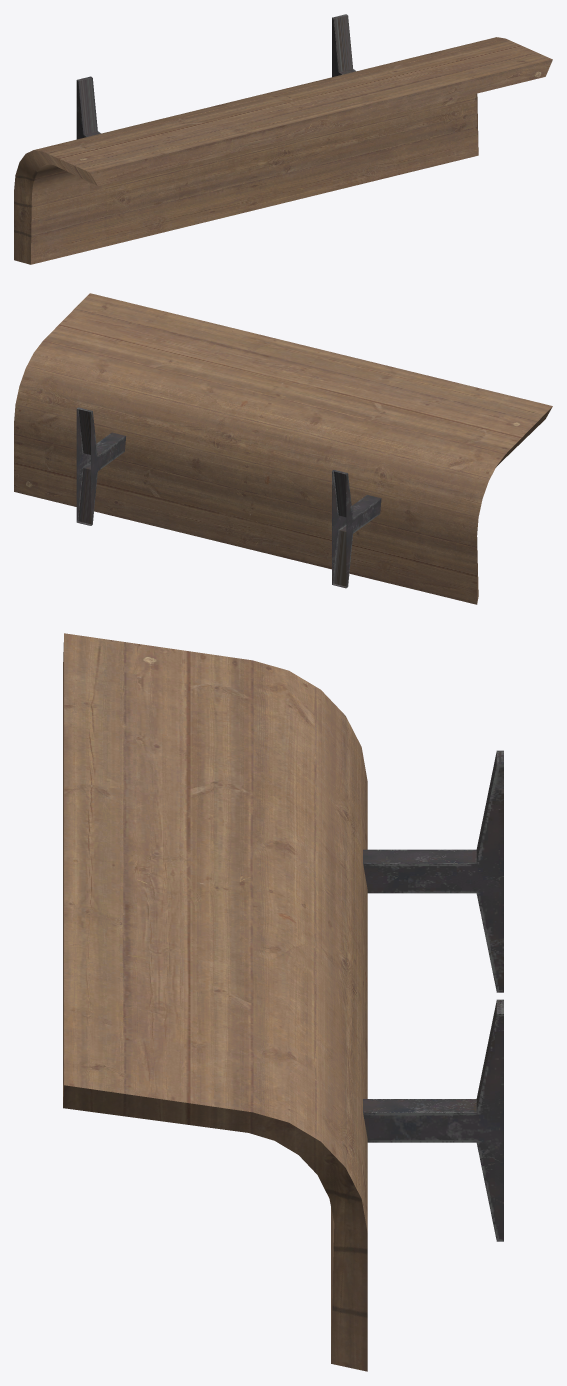
Rendered from ParkBench.obj.
3 views of the same model, one above another, from view 1: azimuth 30°, elevation 25°; view 2: azimuth 150°, elevation 25°; view 3: azimuth 270°, elevation 25° (orthographic). The views are drawn at different scales.
Visible parts, largest first — view 1: ParkBench; view 2: ParkBench; view 3: ParkBench.
Boxes of the visible parts, box(x1,y1,x2,y2) form: ParkBench: box(14, 14, 552, 264); ParkBench: box(14, 293, 552, 604); ParkBench: box(63, 633, 503, 1371).
Size of the model in its own units: 2 by 0.591 by 0.8252.
Materials: 1 (1 with a texture image).
